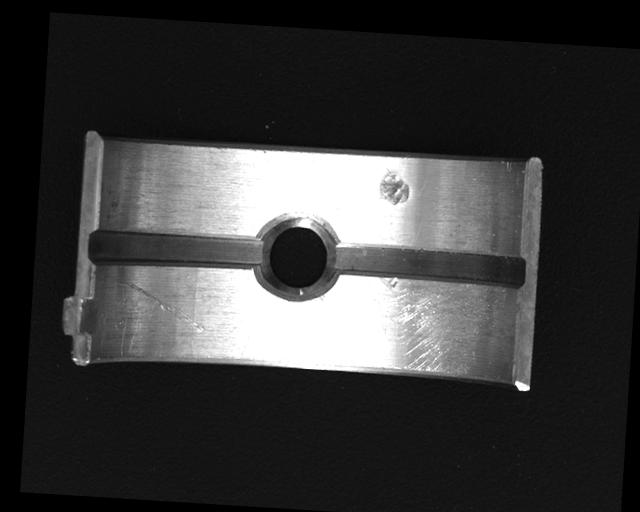bruise: (378, 165, 412, 206)
gap: (326, 240, 526, 291), (88, 225, 262, 272)
hole: (255, 211, 339, 305)
nick: (120, 279, 209, 335)
scratch: (330, 273, 508, 384)
